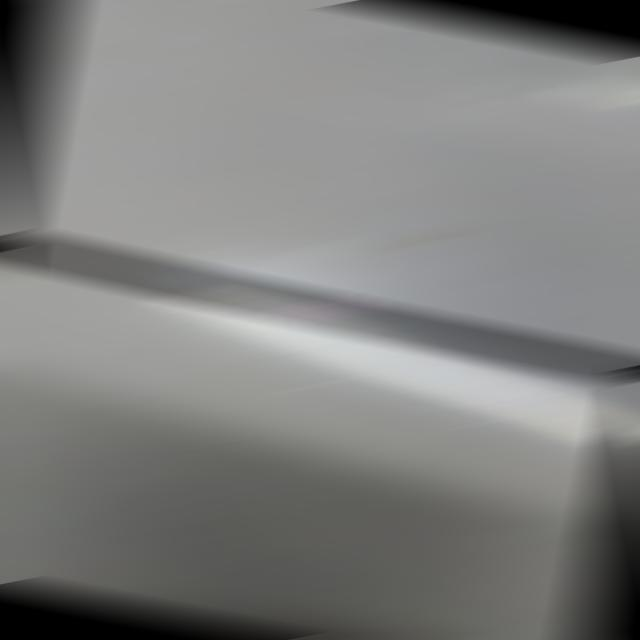pink: (289, 301, 360, 318)
